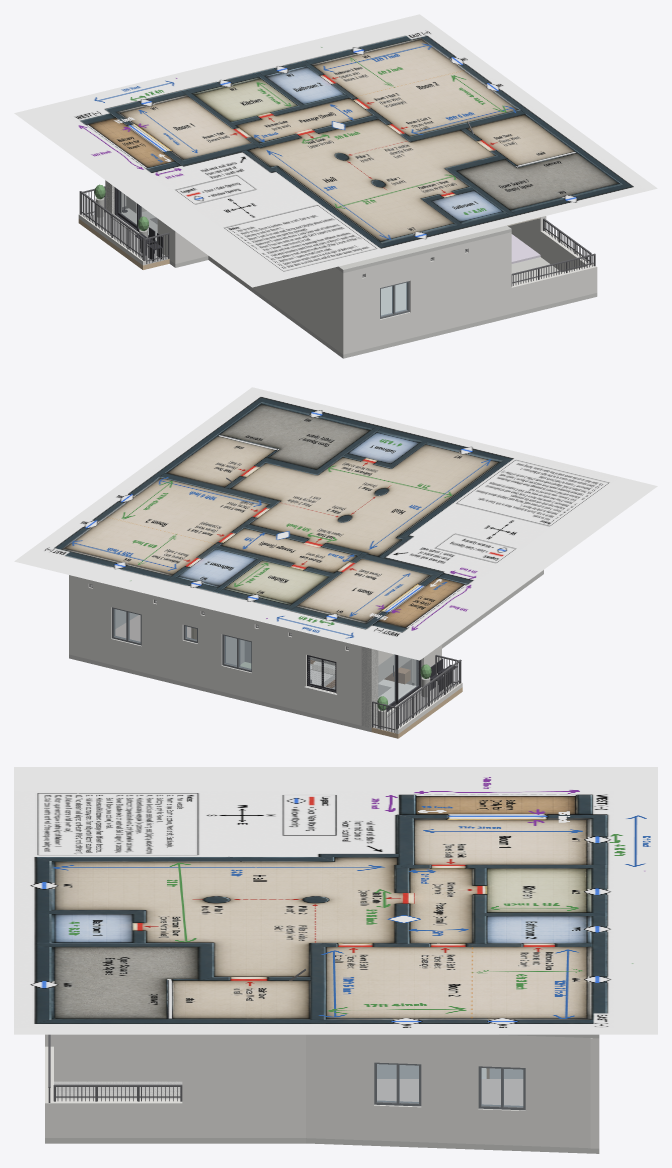
The model's file is MyFlat_V1_1_Room1_OPTION_B.glb.
The picture shows the model from 3 angles, top to bottom: view 1: azimuth 30°, elevation 25°; view 2: azimuth 150°, elevation 25°; view 3: azimuth 270°, elevation 25°; orthographic projection. The views are drawn at different scales.
Visible parts, largest first — view 1: PLAN_REFERENCE_OVERLAY, WALL_EXT_S_HALL, WALL_EXT_W_HALL, SLAB_FLOOR_STRUCTURAL, PARAPET_OPENSQ_S, BALCONY_RAILING_W, SLAB_ROOF, PARAPET_OPENSQ_E, WALL_EXT_W_R1_BALCONY, R1_OPB_BALCONY_FLOOR_FINISH, RAILING_OPENSQ_S, WALL_EXT_E_STAIR (+4 smaller); view 2: PLAN_REFERENCE_OVERLAY, WALL_EXT_N_R2, WALL_EXT_N_R1, WALL_EXT_N_KIT, WALL_EXT_N_B2, SLAB_FLOOR_STRUCTURAL, BALCONY_RAILING_W, PILLAR_R1_NW, WALL_EXT_W_R1_BALCONY, R1_OPB_BALCONY_DOOR_FIXED_GLASS, R1_OPB_BALCONY_FLOOR_FINISH, R1_OPB_BALCONY_DOOR_SLIDER_GLASS (+3 smaller); view 3: PLAN_REFERENCE_OVERLAY, WALL_EXT_E_R2_TAPERED, WALL_EXT_E_STAIR, WALL_INT_OPENSQ_W, PARAPET_OPENSQ_E, SLAB_FLOOR_STRUCTURAL, FLOOR_R2, WINDOW_W5_GLASS, FLOOR_OPENSQ, WINDOW_W6_GLASS, RAILING_OPENSQ_E, WALL_EXT_N_R2 (+4 smaller).
Boxes of the visible parts, box(x1,y1,x2,y2) form: PLAN_REFERENCE_OVERLAY: box(14, 14, 657, 287); WALL_EXT_S_HALL: box(340, 232, 511, 354); WALL_EXT_W_HALL: box(209, 256, 348, 354); SLAB_FLOOR_STRUCTURAL: box(169, 256, 597, 358); PARAPET_OPENSQ_S: box(511, 264, 597, 313); BALCONY_RAILING_W: box(79, 191, 144, 260); SLAB_ROOF: box(335, 225, 511, 273); PARAPET_OPENSQ_E: box(540, 230, 593, 272); WALL_EXT_W_R1_BALCONY: box(107, 184, 184, 263); R1_OPB_BALCONY_FLOOR_FINISH: box(87, 212, 168, 264); RAILING_OPENSQ_S: box(511, 253, 595, 286); WALL_EXT_E_STAIR: box(508, 216, 546, 254); PLAN_REFERENCE_OVERLAY: box(14, 387, 657, 660); WALL_EXT_N_R2: box(69, 575, 171, 679); WALL_EXT_N_R1: box(265, 623, 372, 727); WALL_EXT_N_KIT: box(208, 609, 264, 701); WALL_EXT_N_B2: box(172, 600, 208, 688); SLAB_FLOOR_STRUCTURAL: box(69, 570, 543, 731); BALCONY_RAILING_W: box(396, 659, 461, 729); PILLAR_R1_NW: box(361, 646, 378, 727); WALL_EXT_W_R1_BALCONY: box(362, 647, 438, 727); R1_OPB_BALCONY_DOOR_FIXED_GLASS: box(398, 655, 418, 699); R1_OPB_BALCONY_FLOOR_FINISH: box(373, 681, 454, 732); R1_OPB_BALCONY_DOOR_SLIDER_GLASS: box(378, 654, 395, 704); PLAN_REFERENCE_OVERLAY: box(14, 767, 657, 1034); WALL_EXT_E_R2_TAPERED: box(306, 1034, 590, 1148); WALL_EXT_E_STAIR: box(182, 1034, 305, 1137); WALL_INT_OPENSQ_W: box(54, 1034, 182, 1081); PARAPET_OPENSQ_E: box(54, 1099, 182, 1137); SLAB_FLOOR_STRUCTURAL: box(45, 1081, 599, 1153); FLOOR_R2: box(377, 1079, 523, 1105); WINDOW_W5_GLASS: box(481, 1068, 523, 1106); FLOOR_OPENSQ: box(54, 1081, 182, 1099); WINDOW_W6_GLASS: box(377, 1064, 418, 1103); RAILING_OPENSQ_E: box(53, 1084, 182, 1101); WALL_EXT_N_R2: box(590, 1038, 599, 1148).
Size of what is drawn, in the model's own units: 16.28 by 4.33 by 16.55.
Materials: 49 (1 with a texture image).
